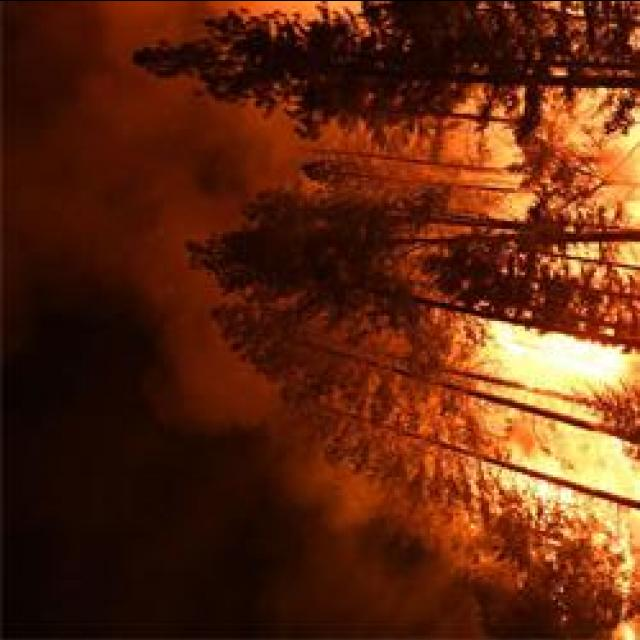fire: (491, 326, 640, 520), (474, 320, 630, 404)
smoke: (77, 140, 206, 264), (268, 548, 442, 638), (10, 0, 128, 130), (162, 355, 294, 435)
